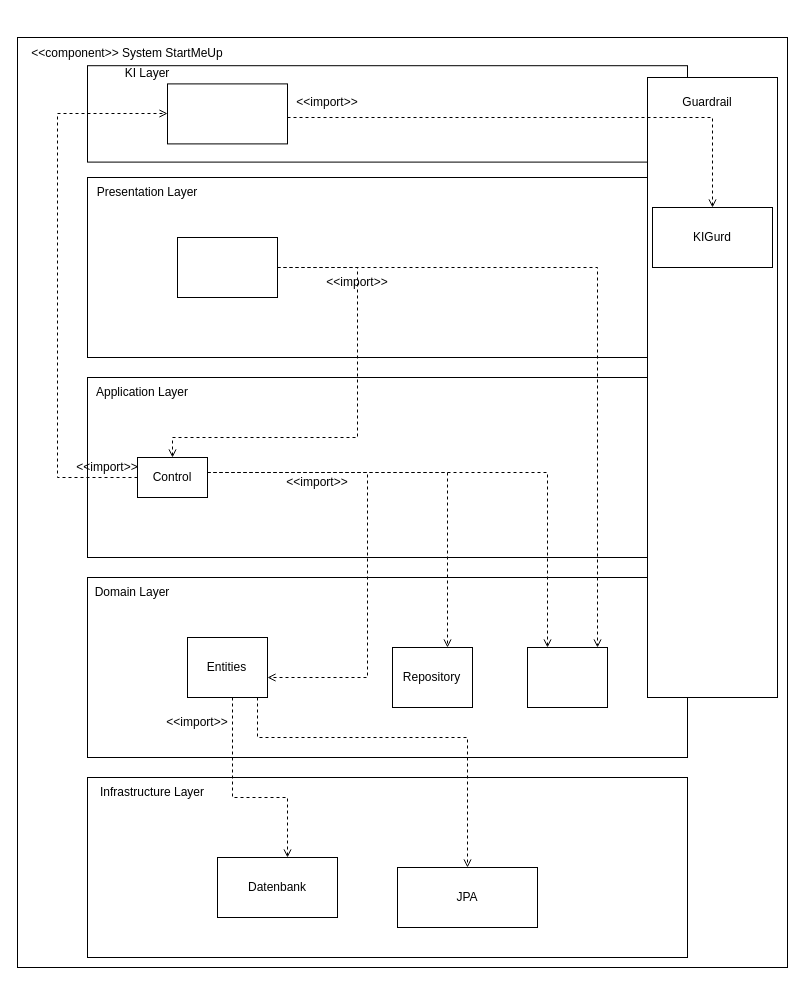
The diagram is 805 pixels wide and 985 high, and some of its shapes have lost their labels. The centre of each missing label's shape, as x and y in pixels:
"DTO" belongs at (567,677).
"KIChatBot" belongs at (227,113).
"Views" belongs at (227,267).
